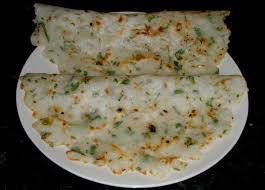rotti: (17, 3, 247, 178)
